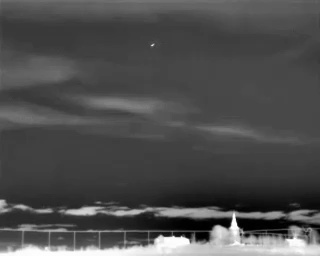AIRPLANE: (149, 41, 156, 49)
